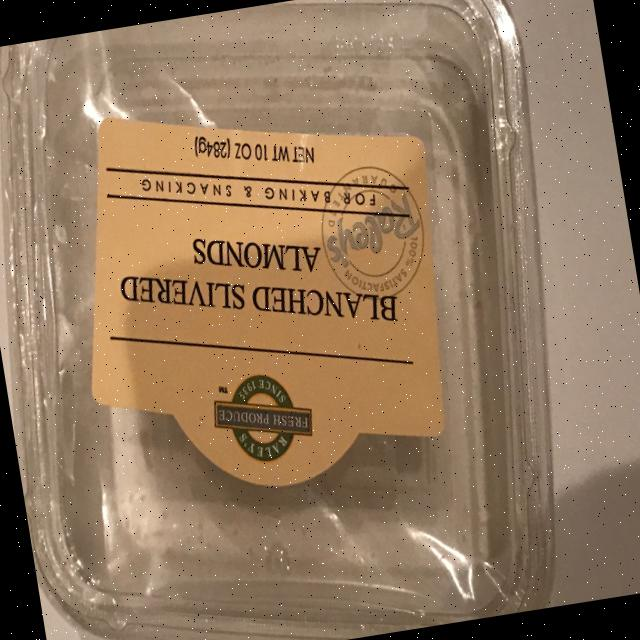plastic: (0, 0, 609, 640)
